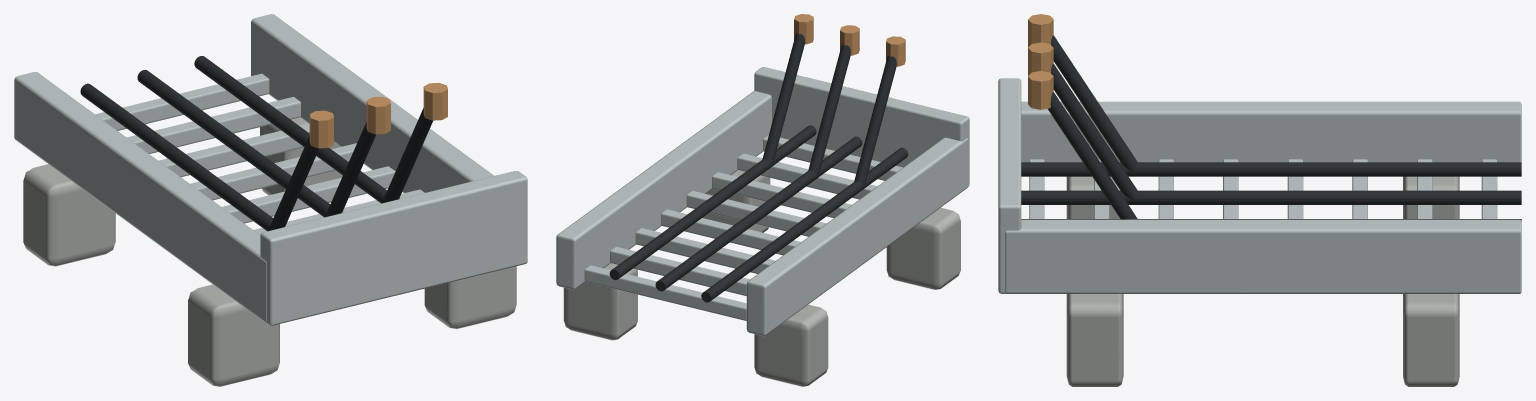
Rendered from broadcast-tower-and-relay-station-broadcast-tower-and--17403e69__30252.glb.
3 renders of one model, left to right at view 1: azimuth 30°, elevation 25°; view 2: azimuth 150°, elevation 25°; view 3: azimuth 270°, elevation 25°, orthographic. The views are drawn at different scales.
Visible parts, largest first — view 1: broadcast-tower-and-relay-station-cable-ladder-end; view 2: broadcast-tower-and-relay-station-cable-ladder-end; view 3: broadcast-tower-and-relay-station-cable-ladder-end.
Part boxes in pixels (bbox=[...]): broadcast-tower-and-relay-station-cable-ladder-end: bbox=[14, 14, 527, 386]; broadcast-tower-and-relay-station-cable-ladder-end: bbox=[556, 14, 969, 386]; broadcast-tower-and-relay-station-cable-ladder-end: bbox=[998, 14, 1521, 386].
Size of the model in its own units: 0.7 by 0.57 by 1.01.
